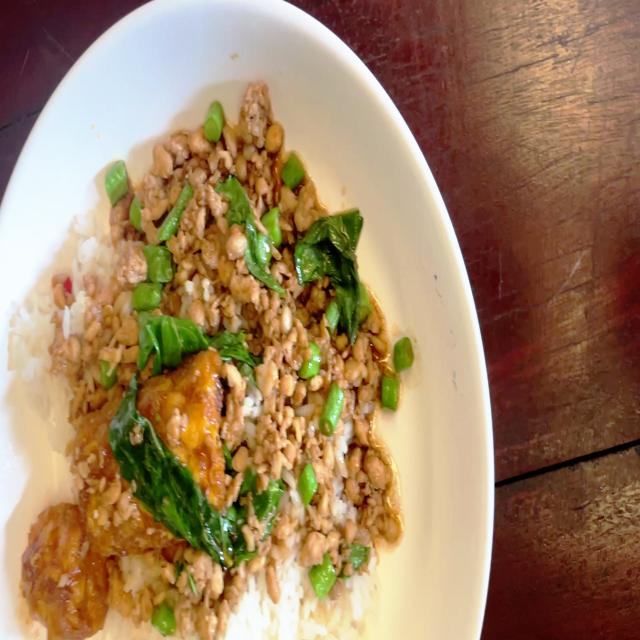fried_tofo: (80, 398, 207, 547), (23, 513, 102, 627)
minced_pork: (62, 92, 406, 405), (217, 404, 398, 572)
rice: (229, 576, 370, 640)
stir_fried_basil: (7, 84, 410, 640)
